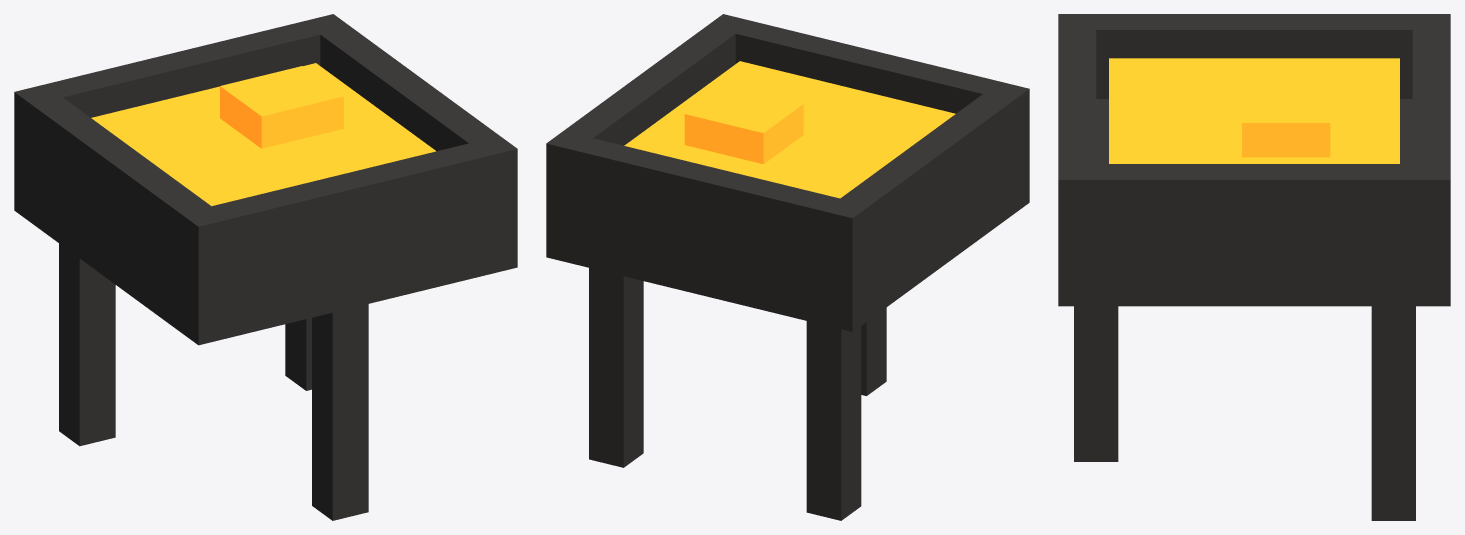
Rendered from brazier.glb.
3 renders of one model, left to right at view 1: azimuth 30°, elevation 25°; view 2: azimuth 150°, elevation 25°; view 3: azimuth 270°, elevation 25°, orthographic. The views are drawn at different scales.
Visible parts, largest first — view 1: bowl, embers, legs; view 2: bowl, embers, legs; view 3: bowl, embers, legs.
Boxes of the visible parts, box(x1,y1,x2,y2) form: bowl: box(14, 14, 517, 345); embers: box(91, 63, 435, 206); legs: box(59, 243, 368, 520); bowl: box(546, 14, 1029, 331); embers: box(624, 61, 955, 198); legs: box(589, 268, 886, 520); bowl: box(1058, 14, 1450, 306); embers: box(1109, 58, 1399, 163); legs: box(1074, 306, 1415, 520).
Size of the model in its own units: 0.62 by 0.64 by 0.62.
